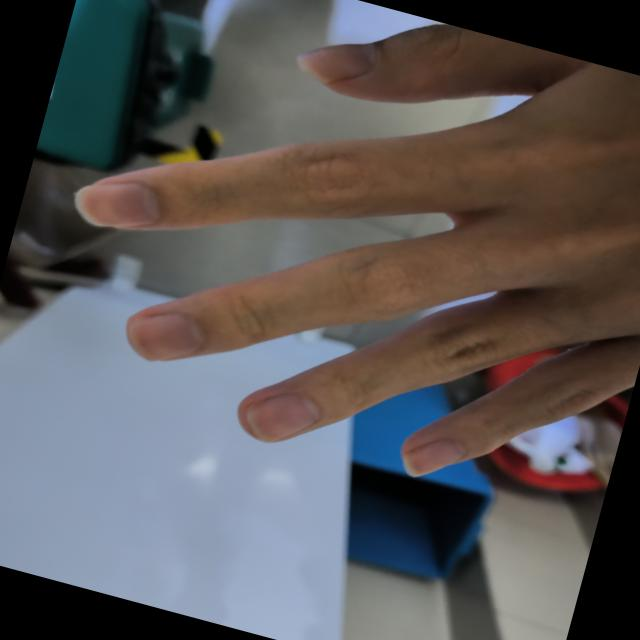Nail: (74, 181, 159, 225), (245, 392, 319, 441), (129, 312, 201, 360), (296, 41, 375, 81), (402, 438, 464, 476)
